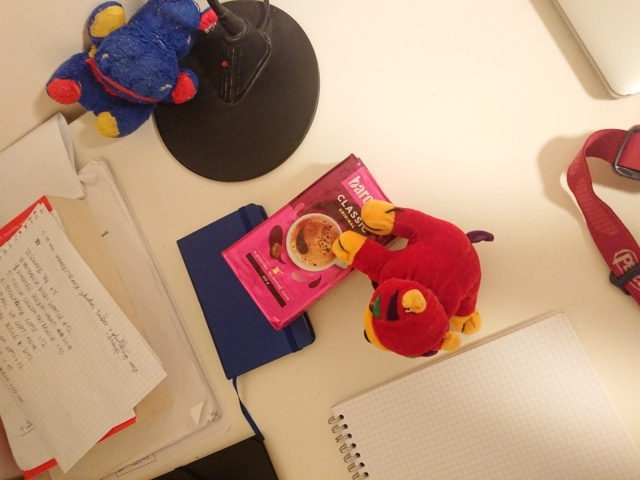Barcaffe Classic Original 225g: (215, 150, 410, 334)
